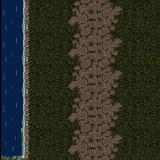Interaction: (16, 0, 37, 160), (0, 152, 16, 160)
Slow: (0, 1, 21, 155)
